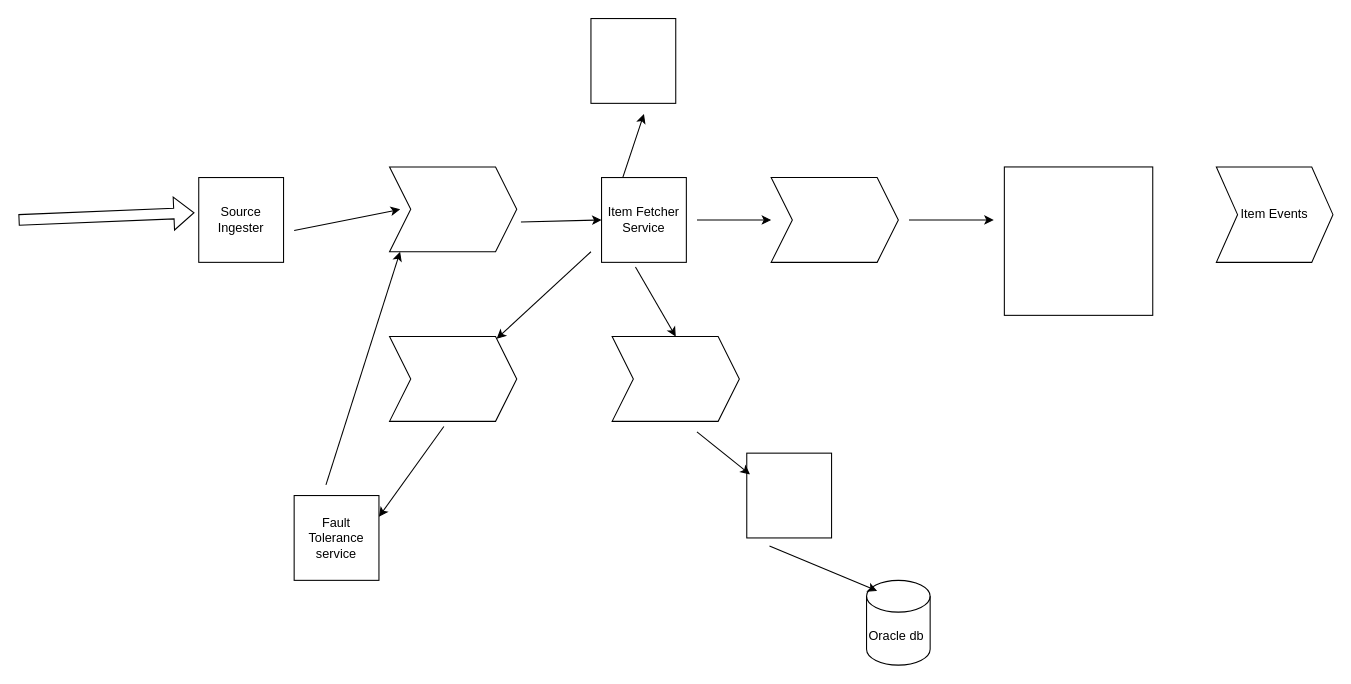
Image size: 1351x684. Some labels were removed from this diagram. The box of each missing label's shape, as (x1, y1, x2, y2) in pixels:
Business Processing Logic: (1003, 166, 1153, 315)
Item Service: (590, 17, 676, 103)
Persistence Service: (746, 452, 832, 538)
